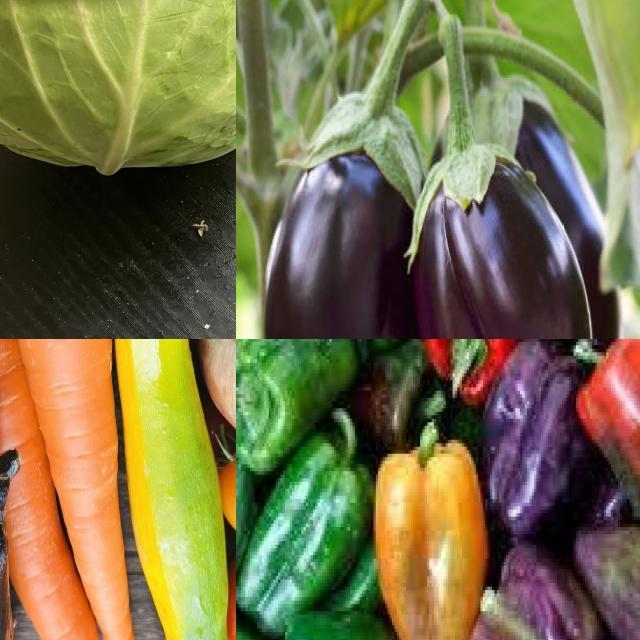bell_pepper: (237, 424, 382, 638), (263, 606, 428, 640)
cabbage: (1, 1, 237, 182)
carrot: (5, 340, 141, 640), (1, 340, 105, 640)
eggplant: (262, 101, 433, 340), (415, 127, 592, 340)
